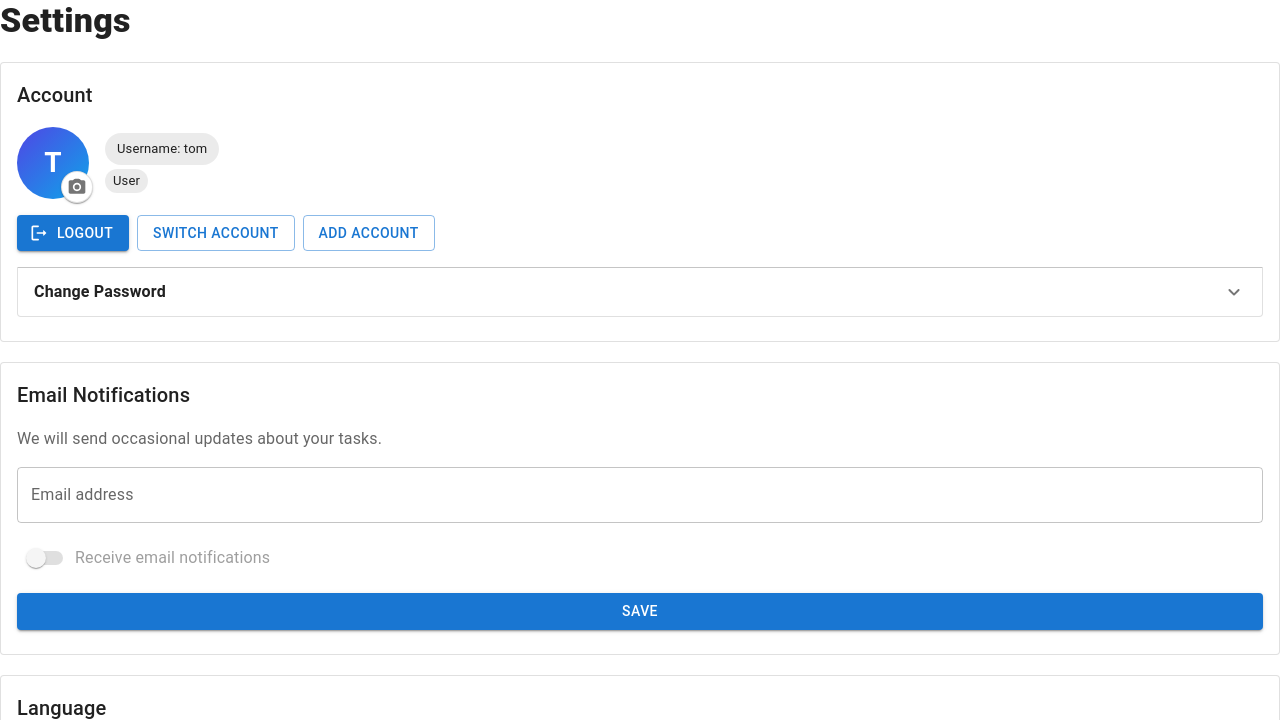
Test: SettingsPage › shows session-expired error with Re-add button when switch token is rejected
Click the button "Switch Account". click: (216,233)
box: [137,215,295,252]
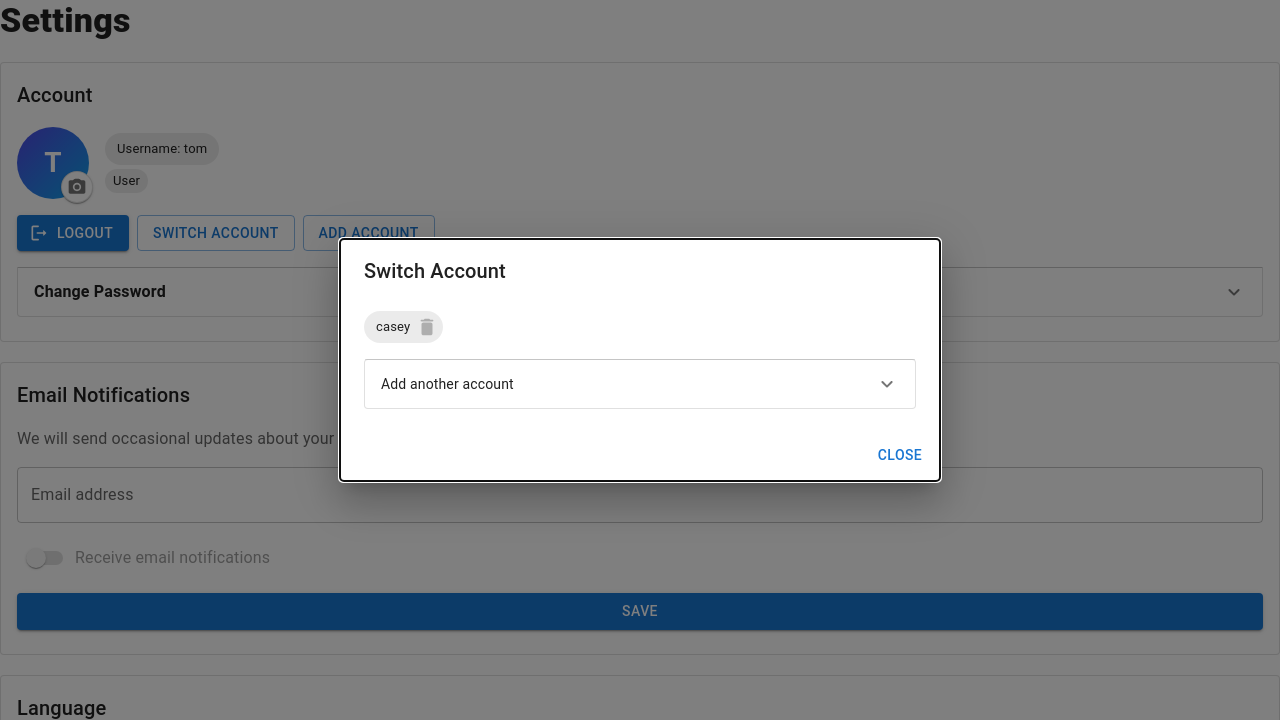
Click the button "casey". click: (404,327)
box: [364,311,443,343]
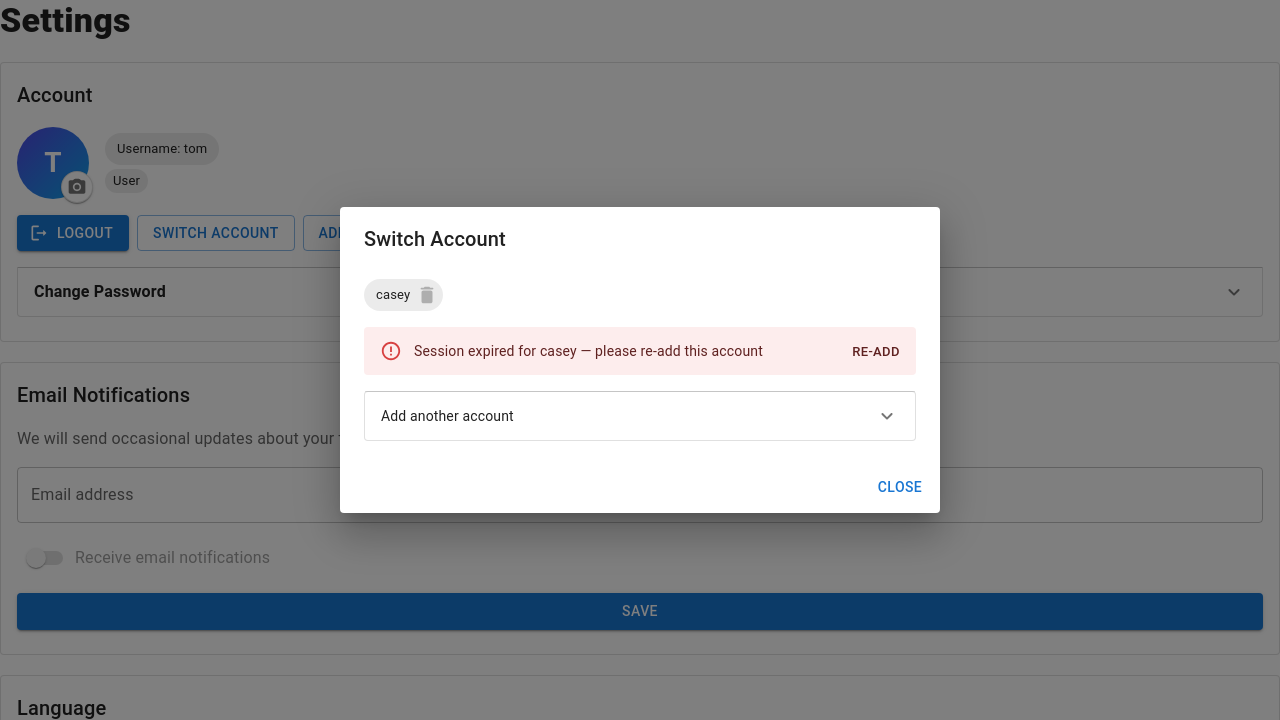
Expected: the message shows "Session expired", [414,343,763,359]
Expected: the button "Re-add" is shown, [844,337,908,368]
